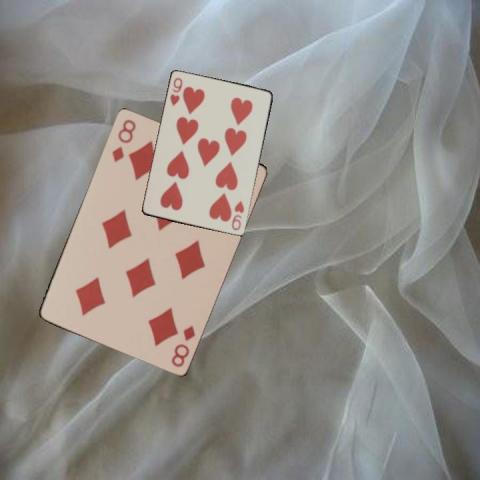8d: (108, 116, 137, 164), (168, 322, 197, 369)
9h: (229, 197, 245, 232), (167, 75, 184, 107)
